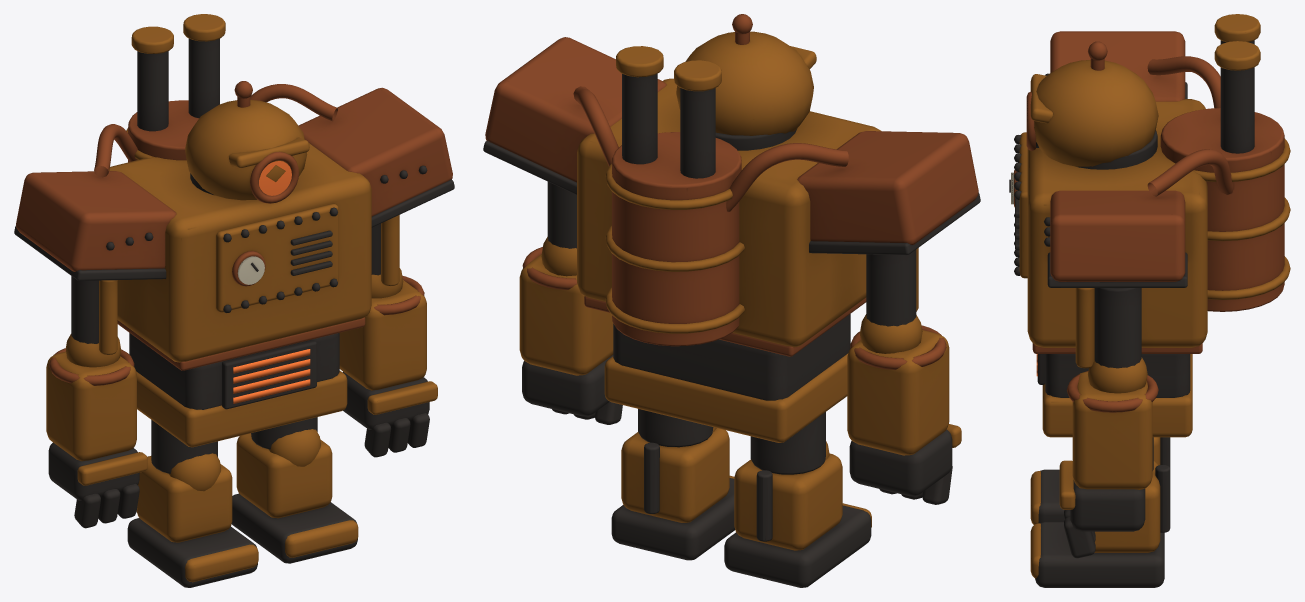
File: sentinel_v11.glb
3 views of the same model, side by side, from view 1: azimuth 30°, elevation 25°; view 2: azimuth 150°, elevation 25°; view 3: azimuth 270°, elevation 25° (orthographic). The views are drawn at different scales.
Parts seen in each view (by area): view 1: Body, ArmR_Lower, ArmL_Lower, LegL_Lower, LegR_Lower, ArmR_Upper, Eye, LegR_Upper, ArmL_Upper, LegL_Upper; view 2: Body, ArmR_Lower, LegR_Lower, LegL_Lower, ArmL_Lower, ArmR_Upper, LegR_Upper, ArmL_Upper, LegL_Upper; view 3: Body, ArmL_Lower, LegL_Lower, ArmL_Upper, LegR_Lower.
Part boxes in pixels (box(x1,y1,x2,y2)): Body: box(14, 14, 454, 447); ArmR_Lower: box(46, 348, 147, 528); ArmL_Lower: box(339, 275, 437, 457); LegL_Lower: box(231, 433, 358, 563); LegR_Lower: box(127, 456, 258, 587); ArmR_Upper: box(65, 276, 121, 367); Eye: box(233, 161, 310, 403); LegR_Upper: box(151, 420, 220, 490); ArmL_Upper: box(371, 215, 403, 298); LegL_Upper: box(251, 417, 320, 466); Body: box(483, 14, 980, 442); ArmR_Lower: box(847, 325, 961, 504); LegR_Lower: box(724, 453, 871, 587); LegL_Lower: box(611, 428, 735, 560); ArmL_Lower: box(519, 247, 622, 424); ArmR_Upper: box(860, 248, 922, 353); LegR_Upper: box(750, 412, 829, 474); ArmL_Upper: box(541, 182, 576, 276); LegL_Upper: box(638, 409, 716, 447); Body: box(1009, 14, 1290, 437); ArmL_Lower: box(1059, 371, 1158, 558); LegL_Lower: box(1030, 461, 1170, 587); ArmL_Upper: box(1075, 288, 1147, 393); LegR_Lower: box(1030, 437, 1170, 524).
Bounding box in the file's own units: 4.73 × 5.62 × 2.82.
10 materials, 10 textured.
